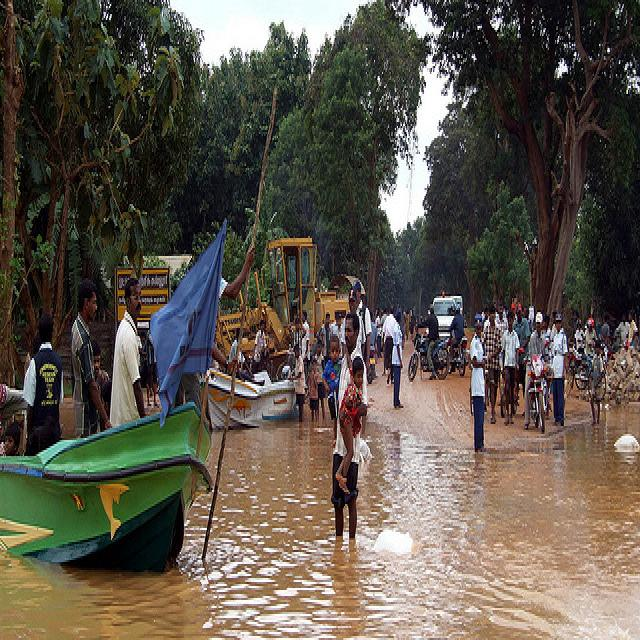motor: (520, 341, 549, 433), (408, 329, 450, 381), (565, 342, 589, 398), (450, 337, 469, 376)
